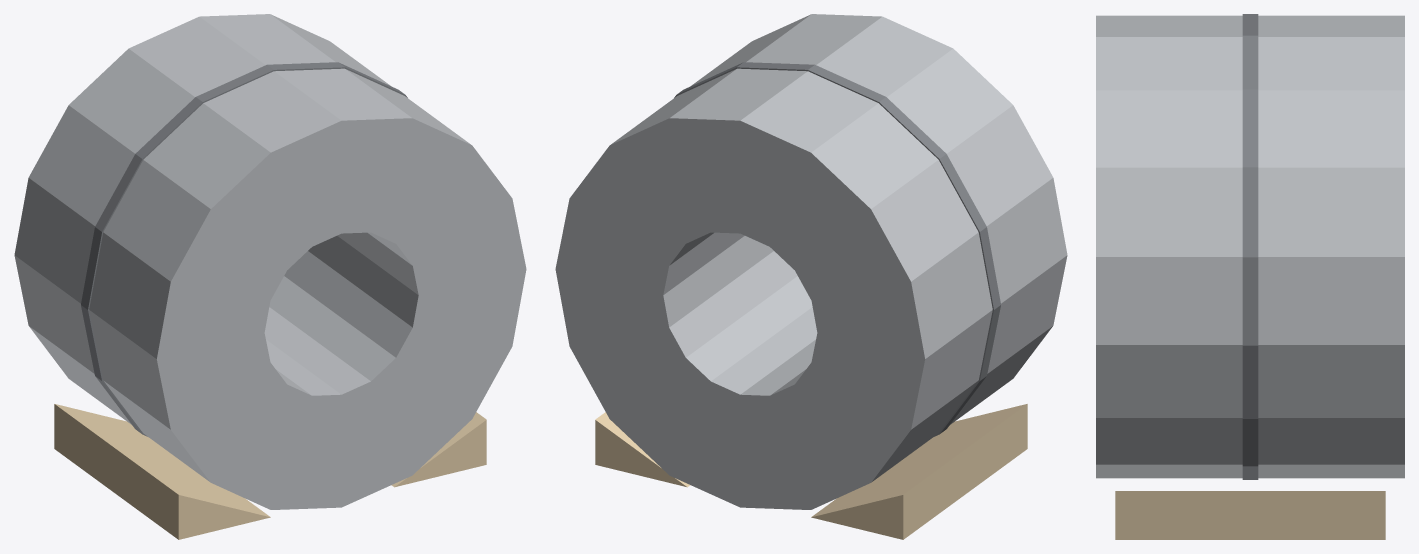
File: bobina.glb
3 views of the same model, side by side, from view 1: azimuth 30°, elevation 25°; view 2: azimuth 150°, elevation 25°; view 3: azimuth 270°, elevation 25° (orthographic). The views are drawn at different scales.
Parts seen in each view (by area): view 1: corpo; view 2: corpo; view 3: corpo.
Boxes of the visible parts, box(x1,y1,x2,y2) form: corpo: box(14, 14, 526, 539); corpo: box(555, 14, 1067, 539); corpo: box(1096, 14, 1404, 539).
Bounding box in the file's own units: 1.21 × 1.21 × 0.8.
